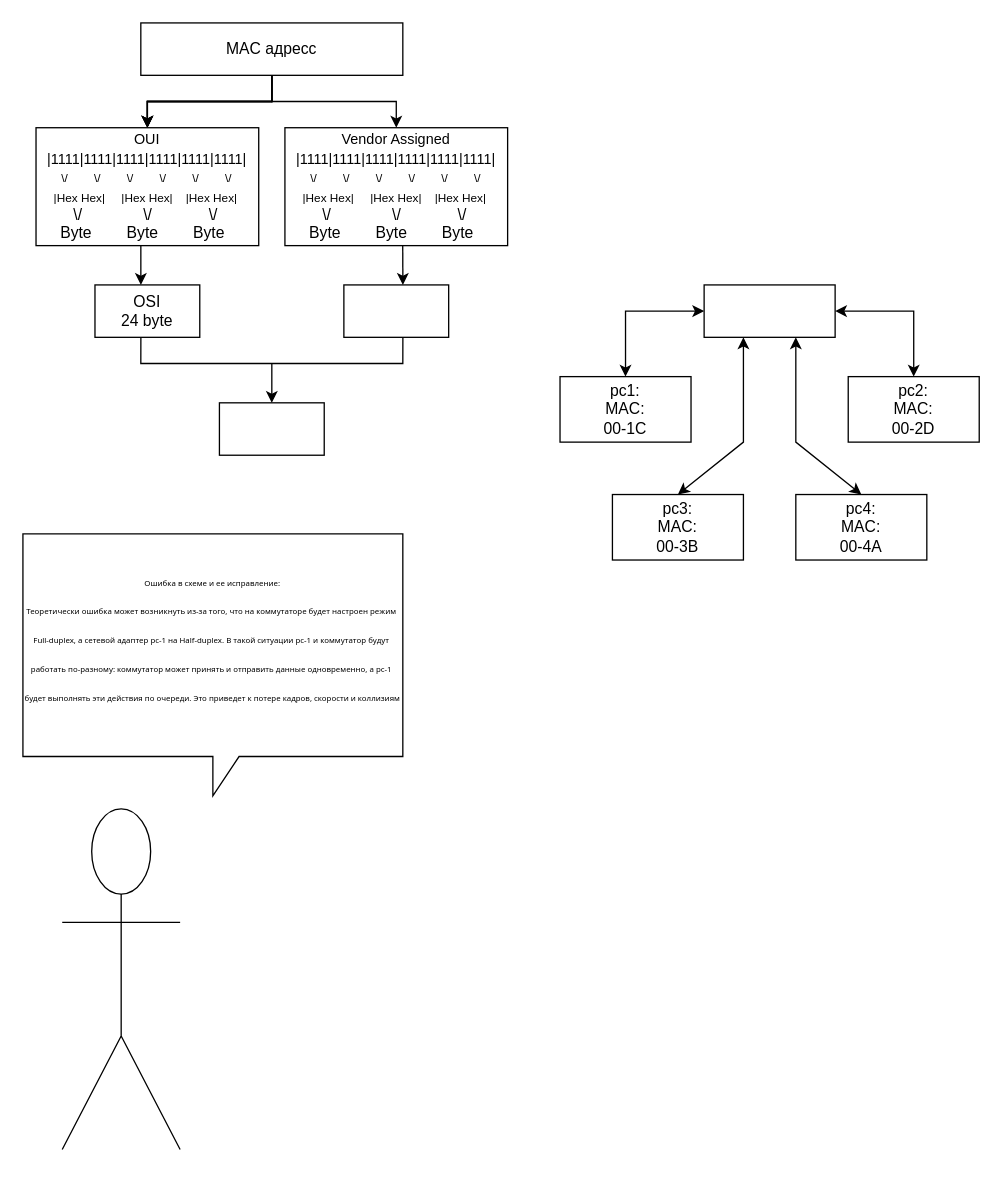
Image size: 1002x1200. Some labels were removed from this diagram. The box of each missing label's shape, as (x1, y1, x2, y2) in pixels:
User PC: (61, 808, 180, 1150)
Vendor Assigned 24 byte: (343, 284, 449, 337)
Коммутатор: 1,2,3,4: (703, 284, 835, 337)
Пример Mac-адрес: 00-1A-4D-2D-C2-6A: (218, 402, 324, 455)
